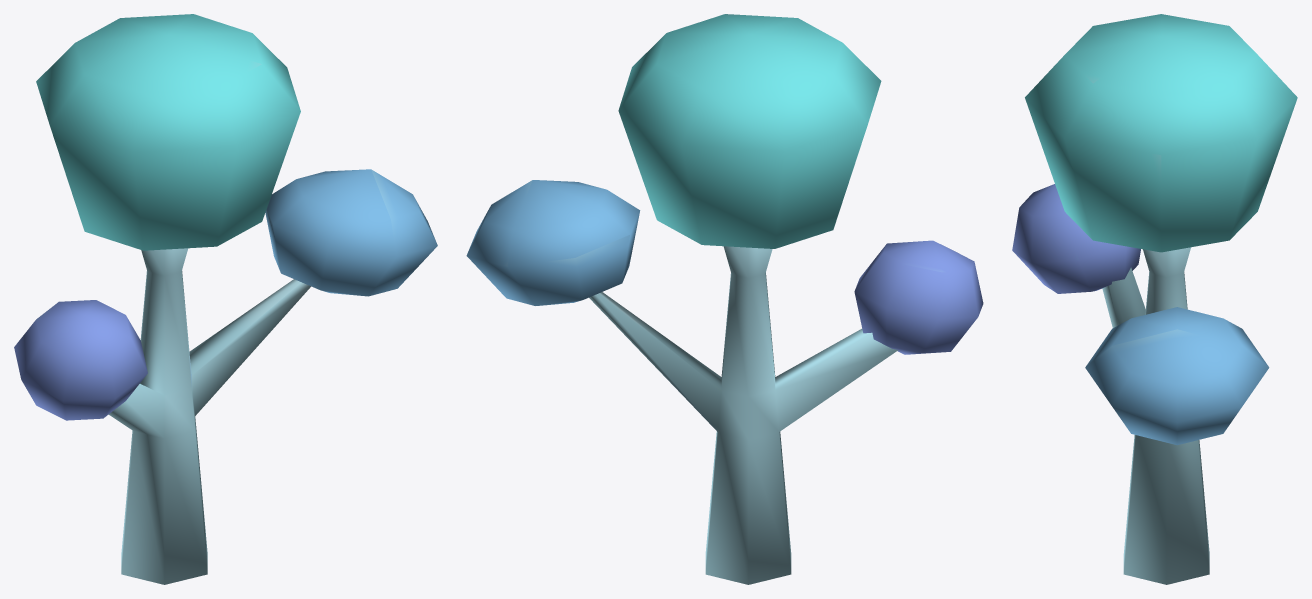
File: StygeaShroom2.gltf
3 renders of one model, left to right at view 1: azimuth 30°, elevation 25°; view 2: azimuth 150°, elevation 25°; view 3: azimuth 270°, elevation 25°, orthographic.
Visible parts, largest first — view 1: SchroomPlantV2Stem; view 2: SchroomPlantV2Stem; view 3: SchroomPlantV2Stem.
Part boxes in pixels (x1,y1,x2,y2): SchroomPlantV2Stem: (14, 14, 437, 584); SchroomPlantV2Stem: (466, 14, 983, 584); SchroomPlantV2Stem: (1012, 14, 1297, 584).
Size of the model in its own units: 0.5275 by 0.5864 by 0.2874.
Materials: 1 (1 with a texture image).
